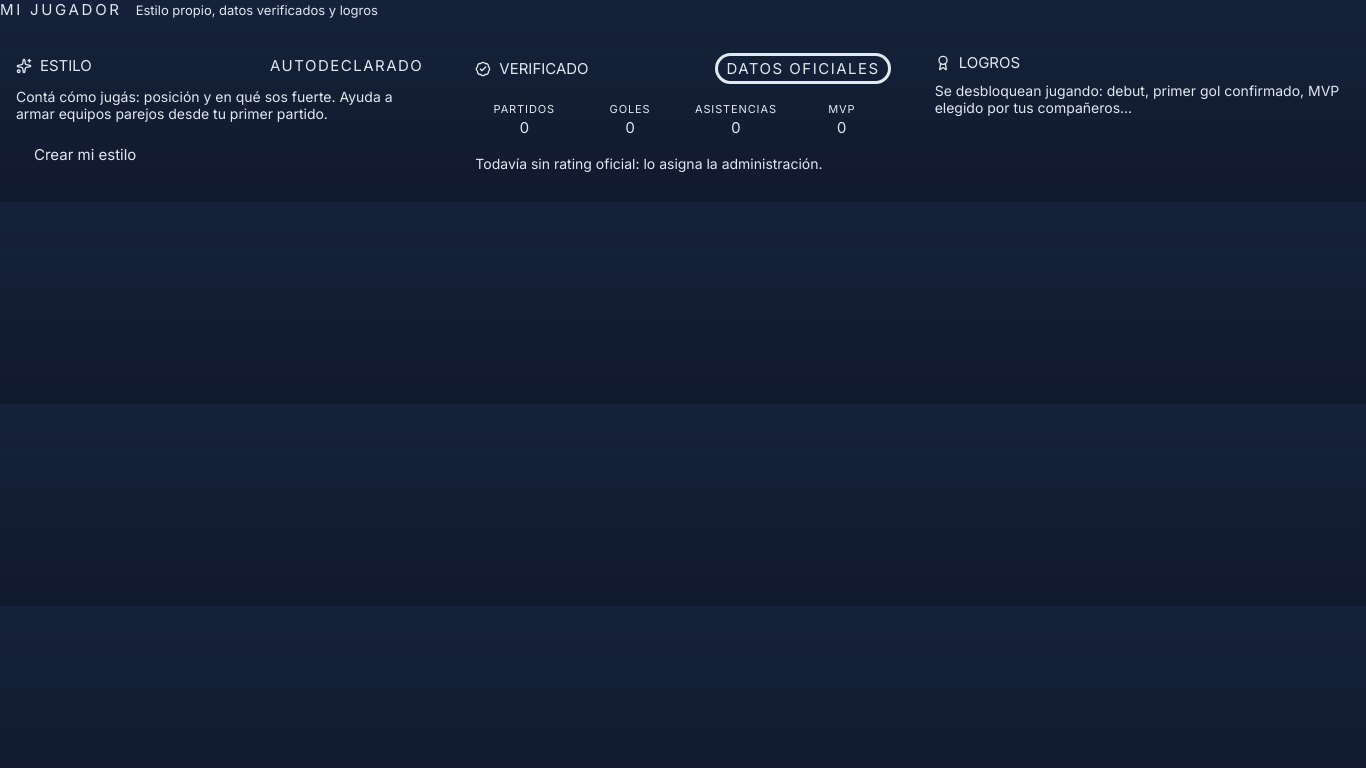
Test: PlayerLayers › creating a style saves 10 points and never touches the official rating
This screenshot has width=1366, height=768.
Click the button "Crear mi estilo" at (85, 154), box [16, 132, 154, 176]
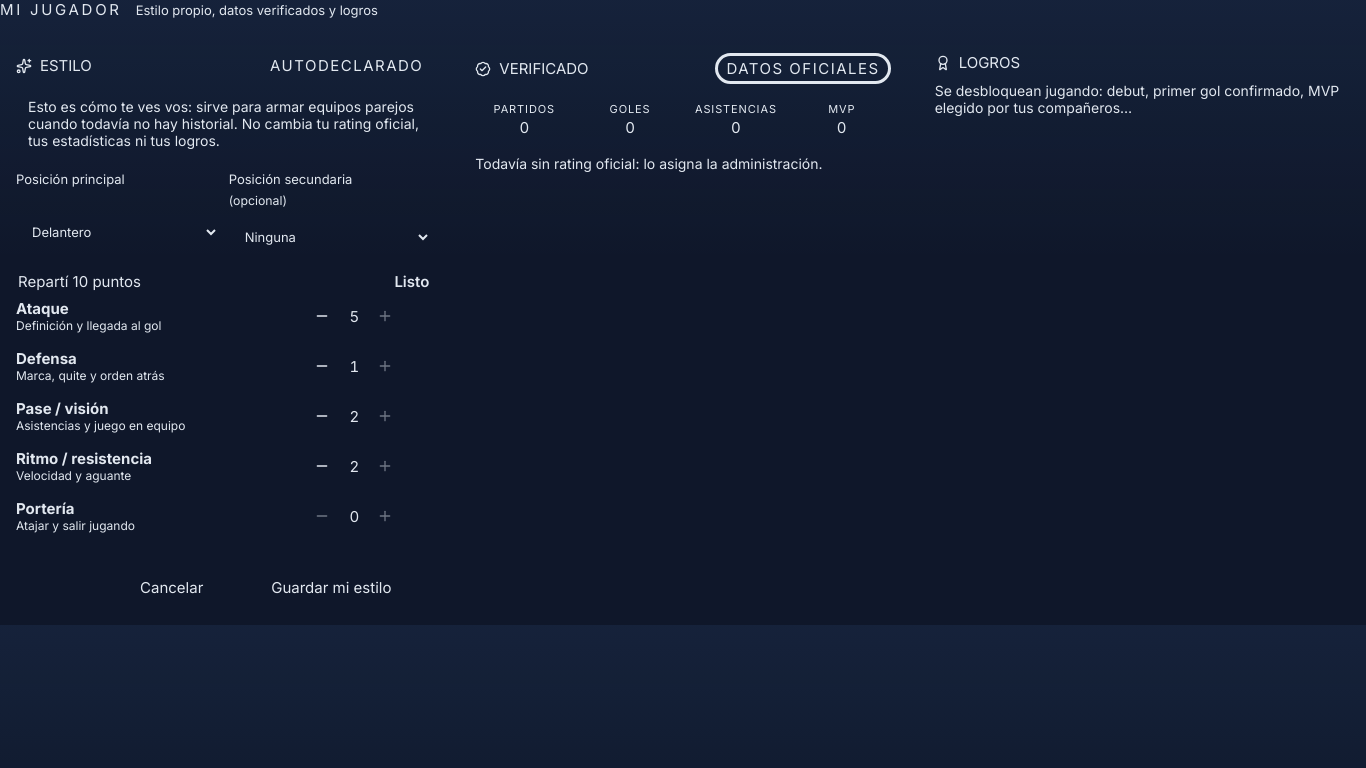
Check: the text "No cambia tu rating oficial" is shown, box [28, 98, 419, 149]
Check: the text "Listo" is shown, box [394, 272, 429, 291]
Click the button named "Restar a Ataque" at (322, 316), box [307, 301, 337, 331]
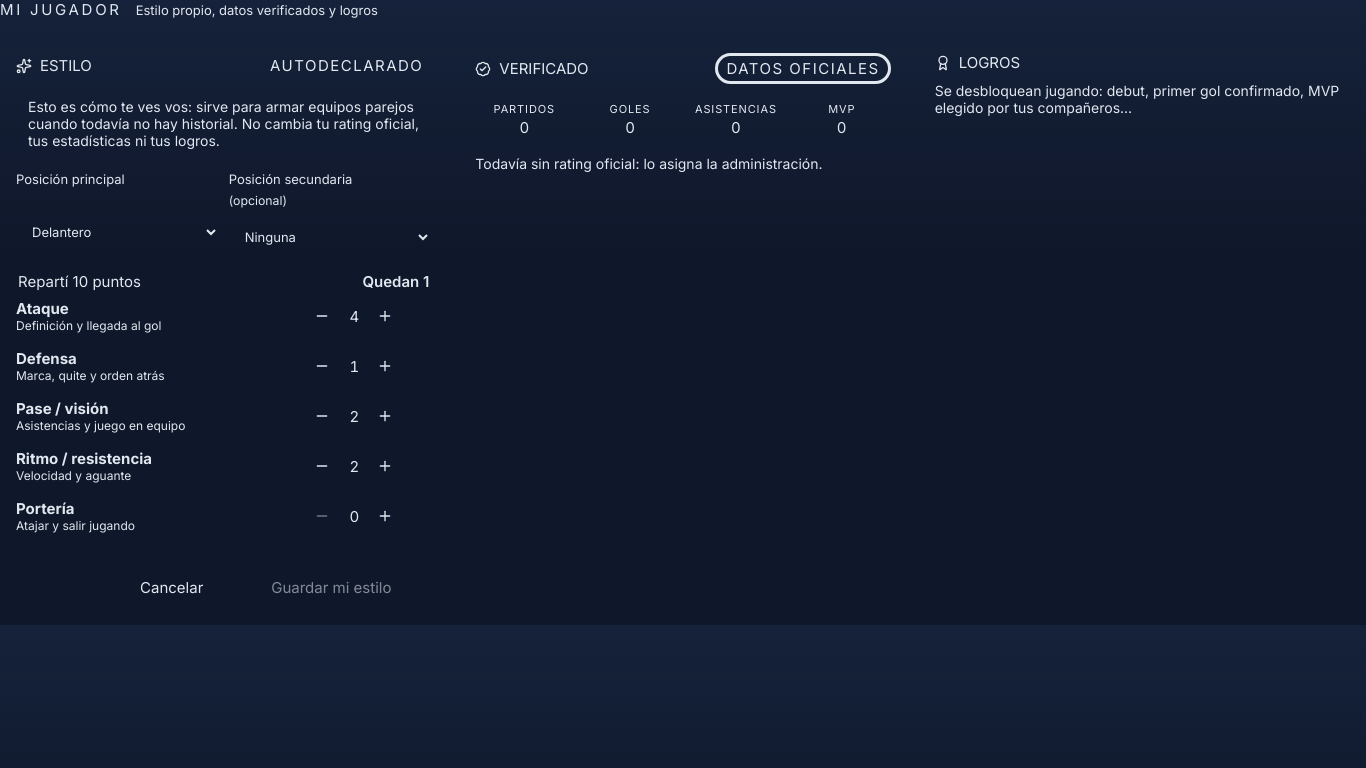
Check: the button "Guardar mi estilo" is disabled, box [231, 565, 431, 609]
Click the button named "Sumar a Portería" at (385, 516), box [371, 501, 399, 531]
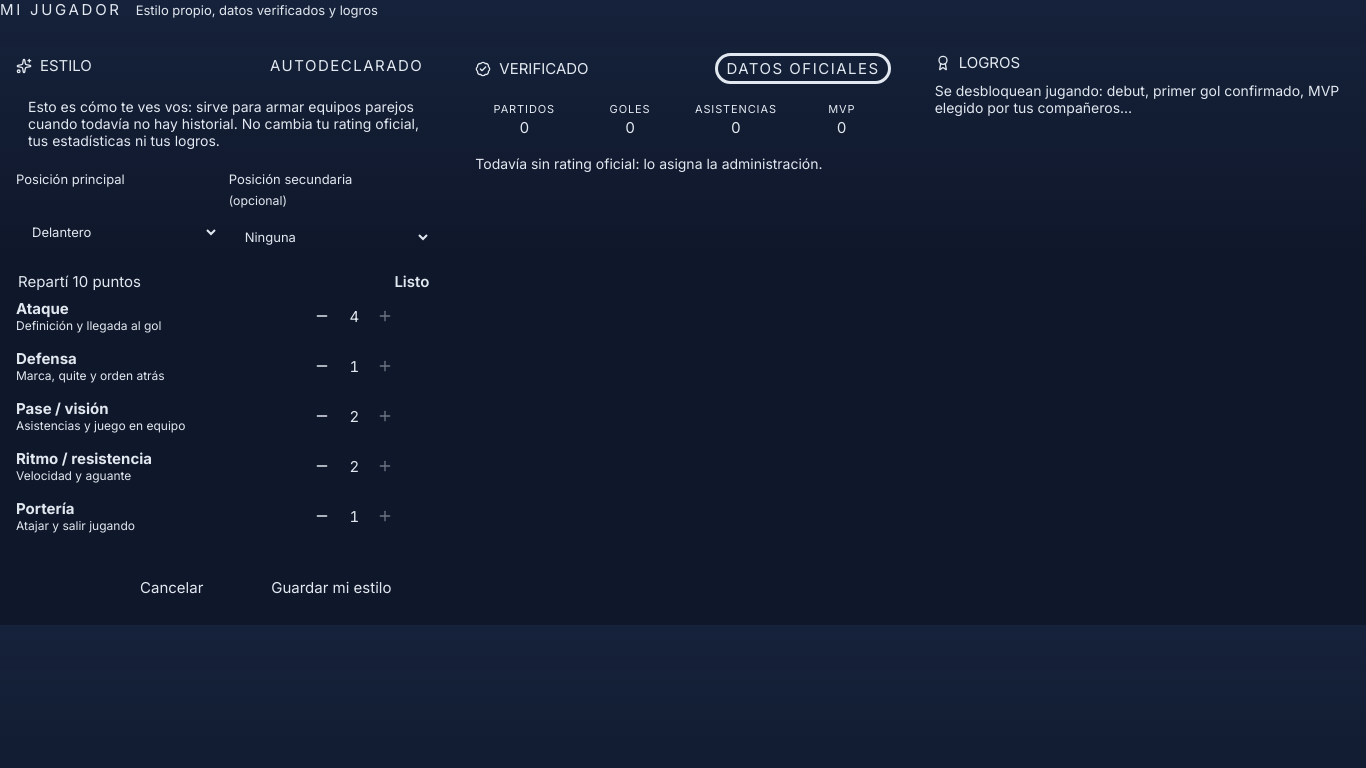
Select "Medio" in the dropdown labelled "Posición secundaria (opcional)" at (330, 237), box [229, 214, 431, 260]
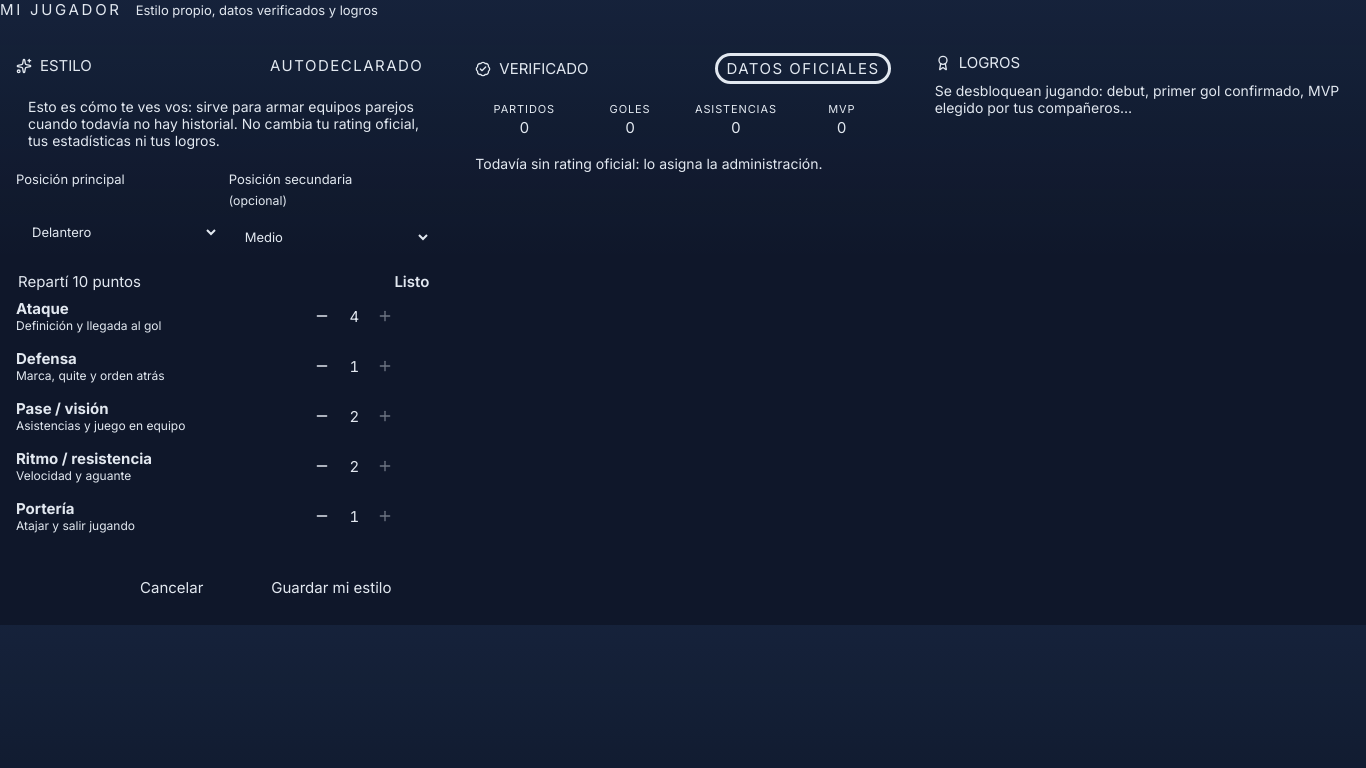
Click the button "Guardar mi estilo" at (331, 587), box [231, 565, 431, 609]
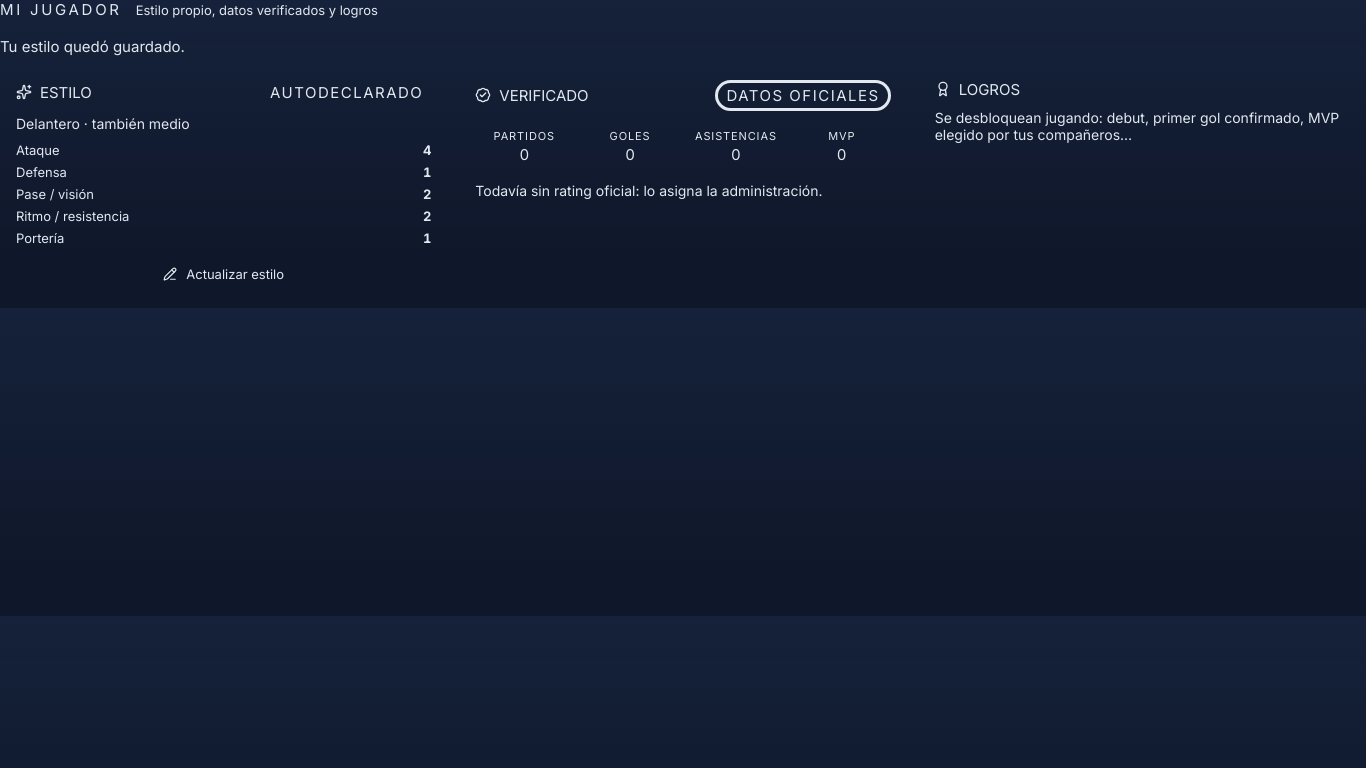
Check: the text "Autodeclarado" is shown, box [262, 80, 431, 104]
Check: the text "Tu estilo quedó guardado." is shown, box [0, 37, 185, 56]
